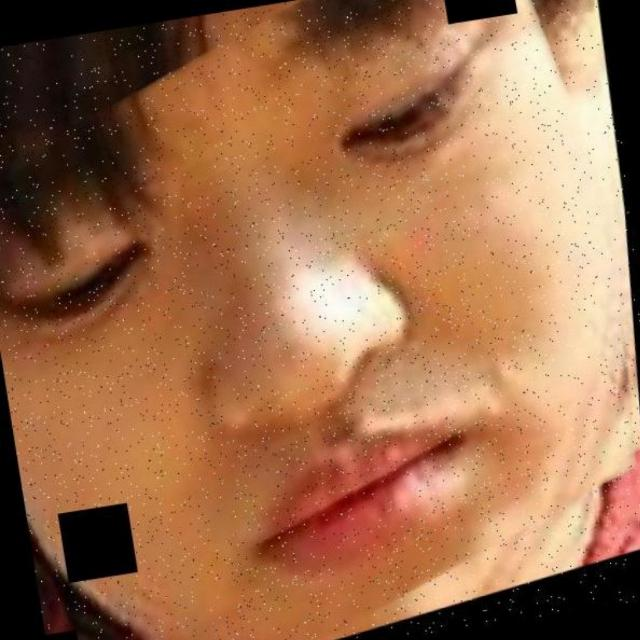Sad: (18, 61, 640, 595)
